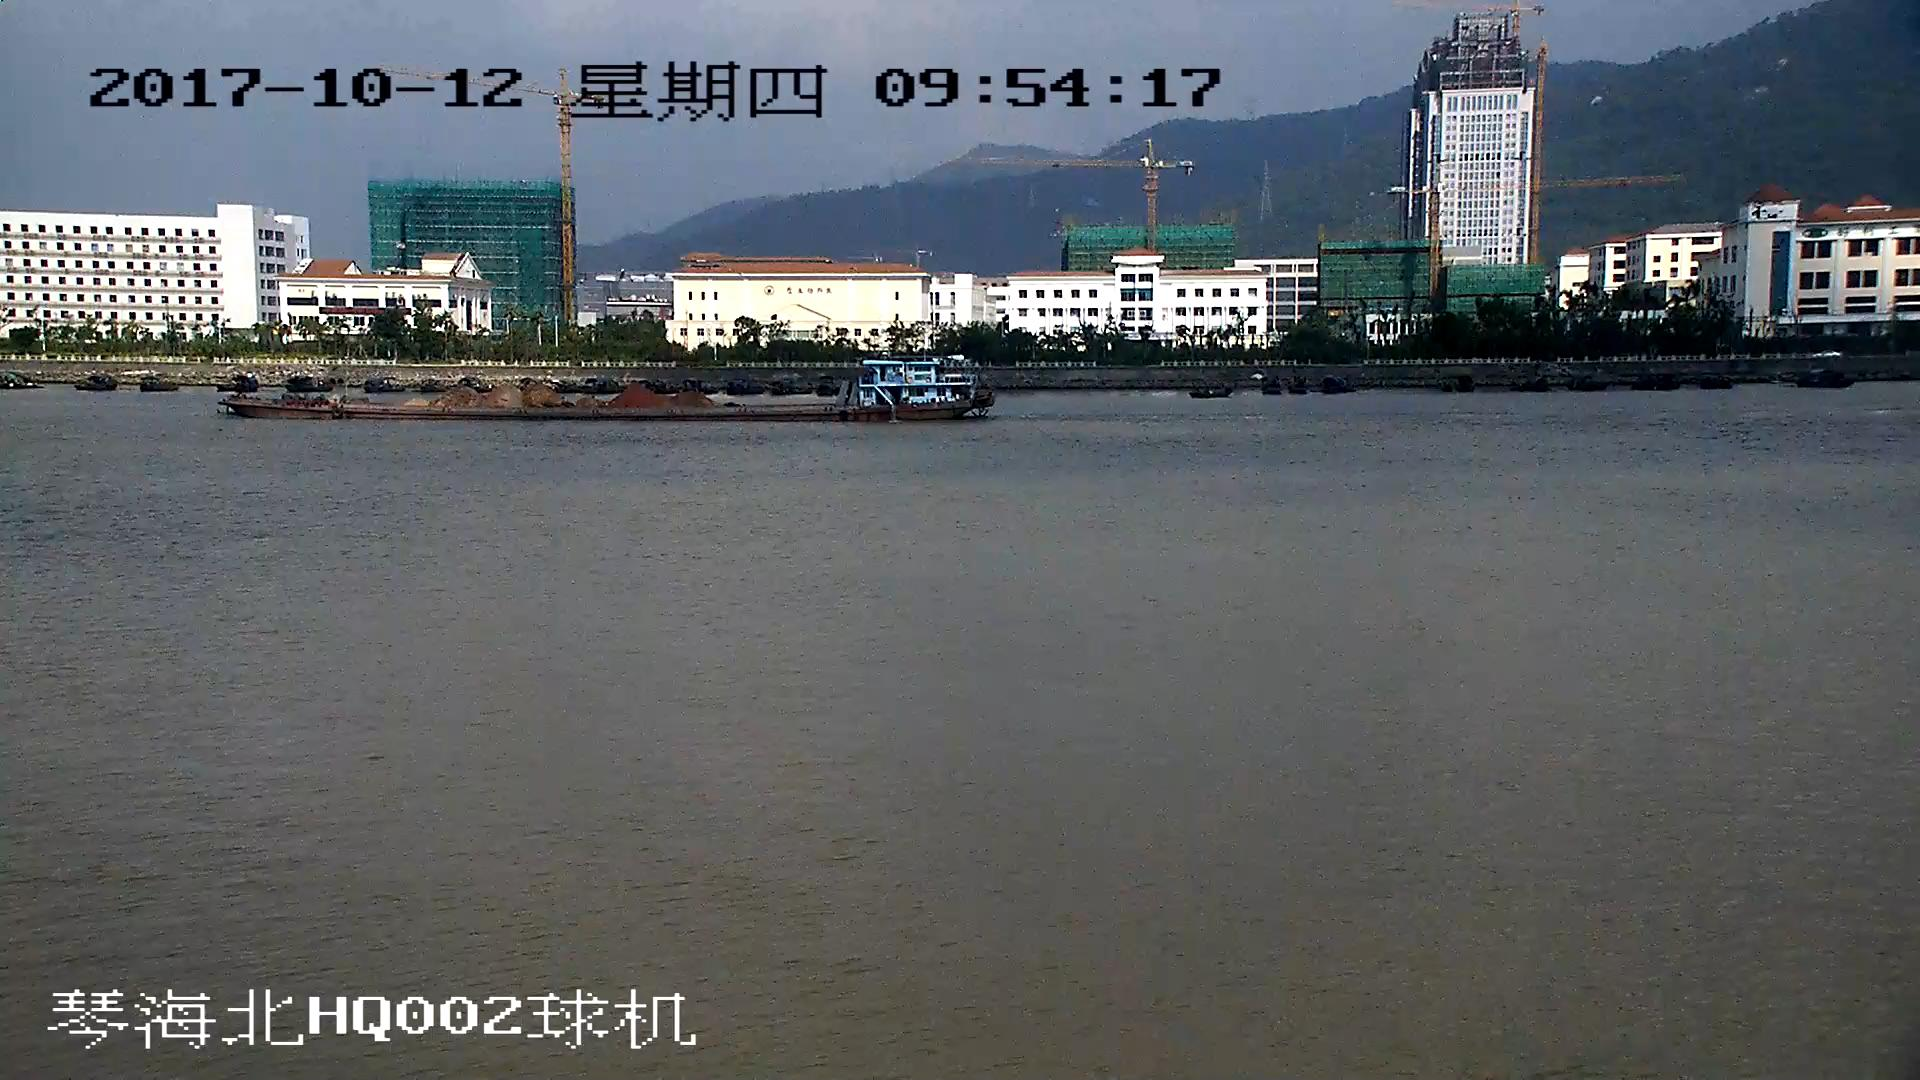ore carrier: (227, 352, 984, 422)
